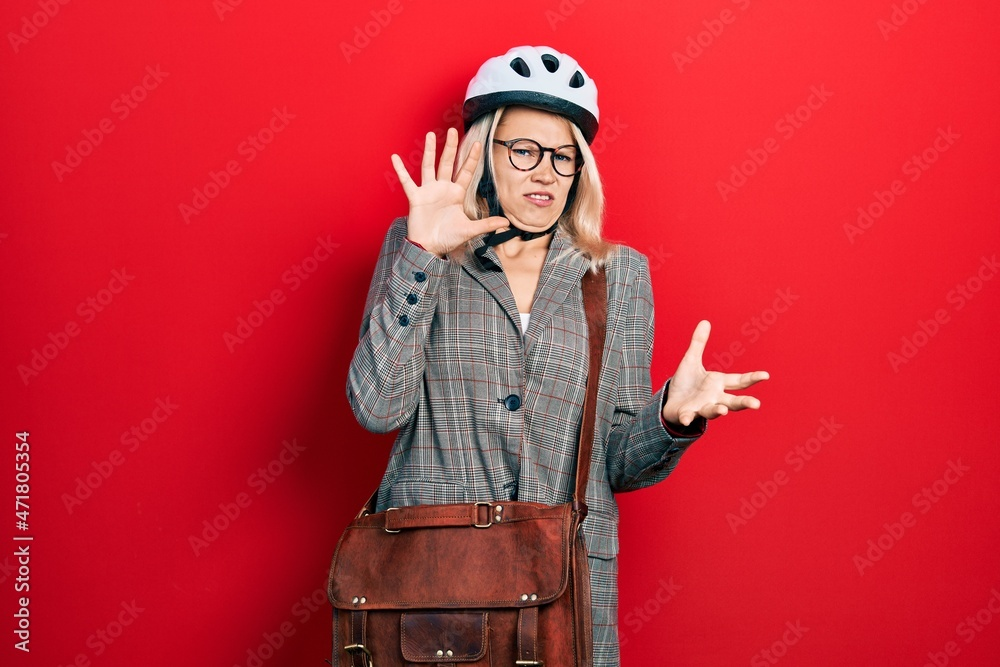helmet: (462, 45, 600, 233)
